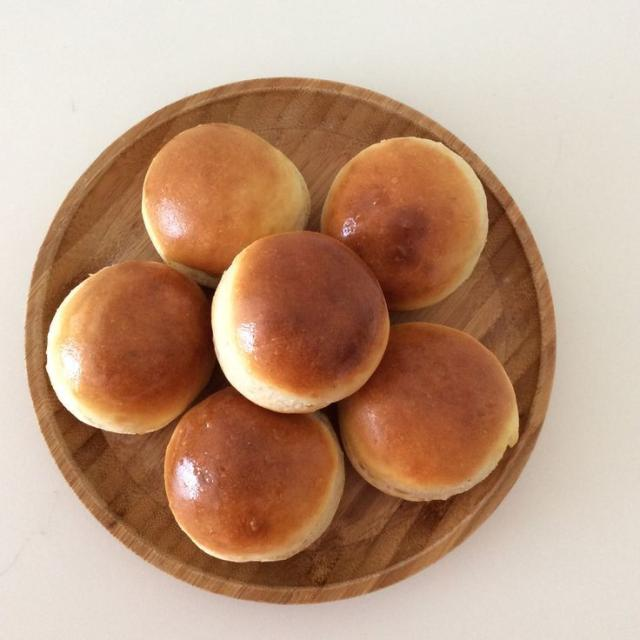bread: (213, 232, 389, 413), (340, 323, 519, 500), (165, 388, 344, 561), (47, 262, 214, 433), (322, 138, 487, 310), (142, 123, 310, 286)
